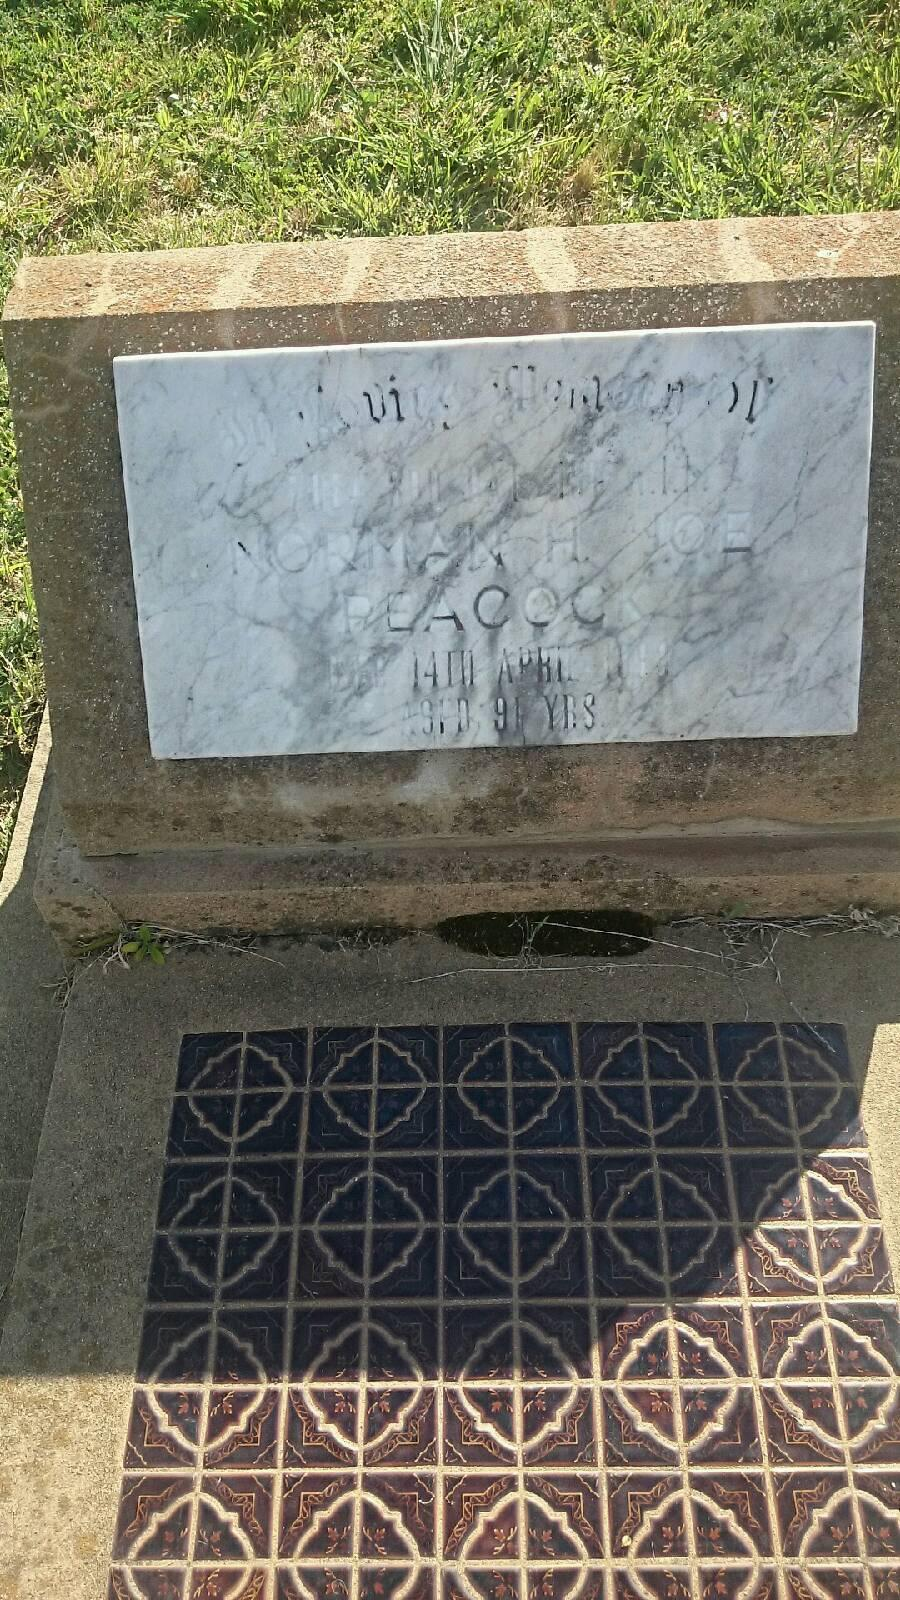upright: (9, 177, 900, 1036)
